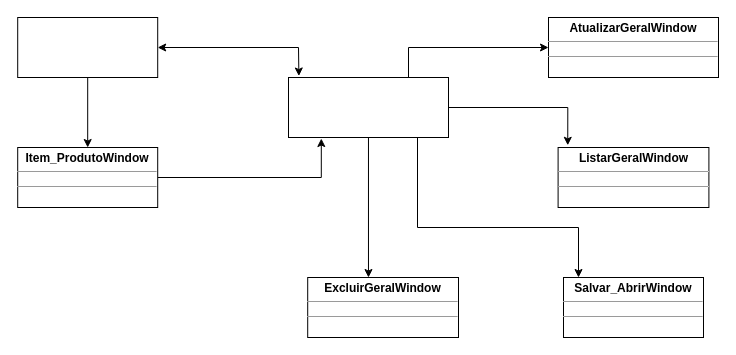
The diagram is 736 pixels wide and 355 high, and some of its shapes have lost their labels. The shapes that lost their labels are listed below. From the top down, each one's box as (x1, y1, x2, y2) in pixels, then its label:
(17, 16, 158, 78): PedidoWindow
(288, 76, 448, 138): MainWindow
